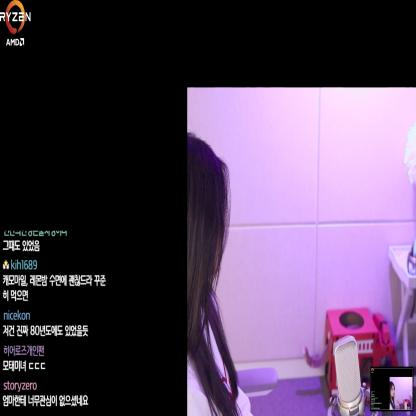streamer: (187, 131, 253, 416)
